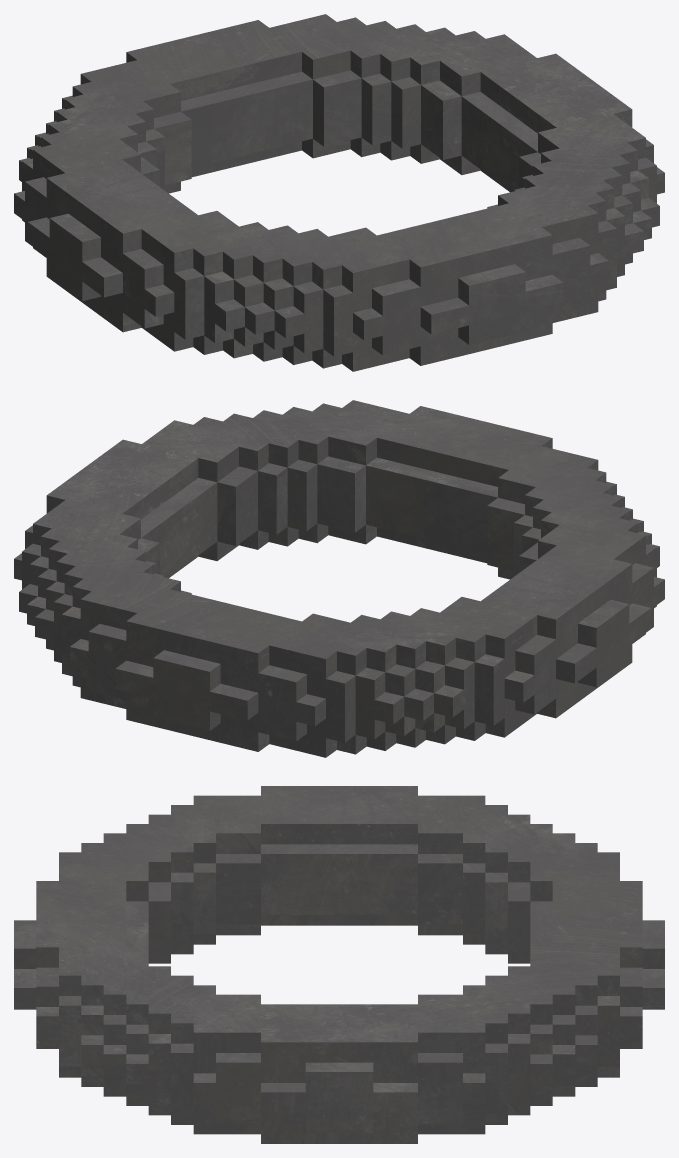
The model's file is Hoop.fbx.
3 views of the same model, one above another, from view 1: azimuth 30°, elevation 25°; view 2: azimuth 150°, elevation 25°; view 3: azimuth 270°, elevation 25° (orthographic). The views are drawn at different scales.
Parts seen in each view (by area): view 1: Torus; view 2: Torus; view 3: Torus.
Part boxes in pixels (box(x1,y1,x2,y2)): Torus: box(14, 14, 664, 371); Torus: box(14, 400, 664, 757); Torus: box(14, 786, 664, 1143).
Bounding box in the file's own units: 759 × 131 × 759.
